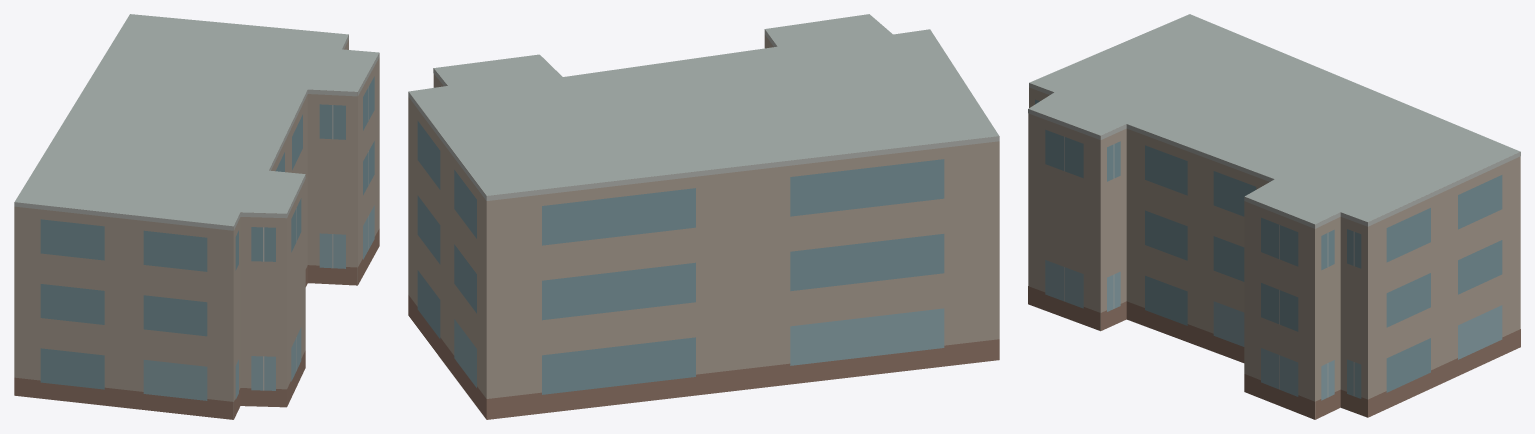
File: survey-upis-32725964.glb
The picture shows the model from 3 angles, left to right: view 1: azimuth 30°, elevation 25°; view 2: azimuth 150°, elevation 25°; view 3: azimuth 270°, elevation 25°; orthographic projection. The views are drawn at different scales.
Parts seen in each view (by area): view 1: survey-upis-32725964.tmp; view 2: survey-upis-32725964.tmp; view 3: survey-upis-32725964.tmp.
Part boxes in pixels (bbox=[...]): survey-upis-32725964.tmp: bbox=[14, 14, 379, 419]; survey-upis-32725964.tmp: bbox=[408, 14, 999, 419]; survey-upis-32725964.tmp: bbox=[1028, 14, 1520, 419].
Size of the model in its own units: 24.49 by 10.6 by 24.22.
